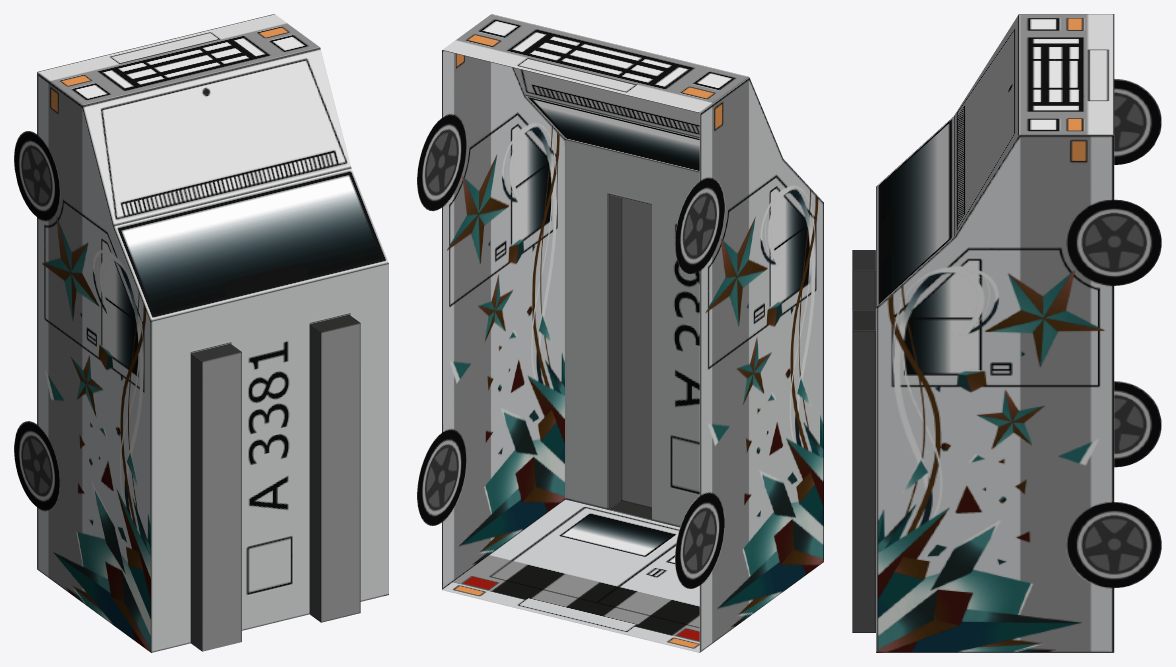
Rendered from PaperCar.obj.
3 views of the same model, side by side, from view 1: azimuth 30°, elevation 25°; view 2: azimuth 150°, elevation 25°; view 3: azimuth 270°, elevation 25° (orthographic). The views are drawn at different scales.
Visible parts, largest first — view 1: Papercar; view 2: Papercar; view 3: Papercar.
Boxes of the visible parts, bbox=[...] form: Papercar: bbox=[14, 14, 388, 652]; Papercar: bbox=[417, 14, 823, 652]; Papercar: bbox=[852, 14, 1161, 652].
Bounding box in the file's own units: 60 × 120 × 64.97.
1 material, 1 textured.
